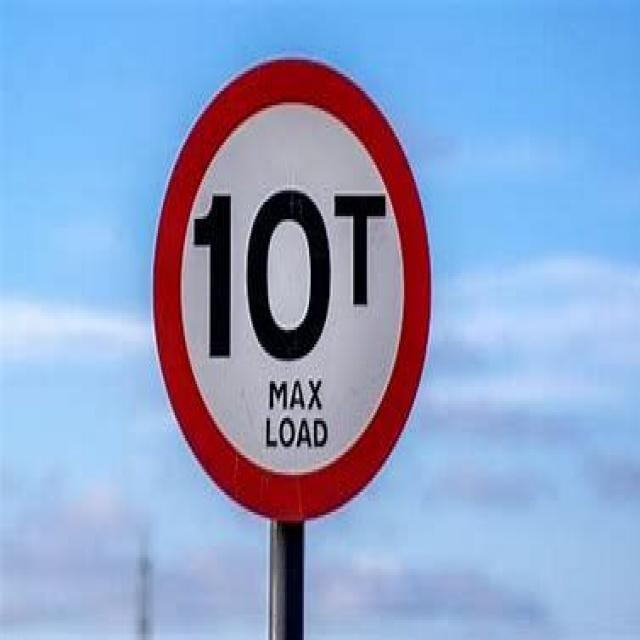LOAD_LIMIT: (151, 57, 431, 518)
